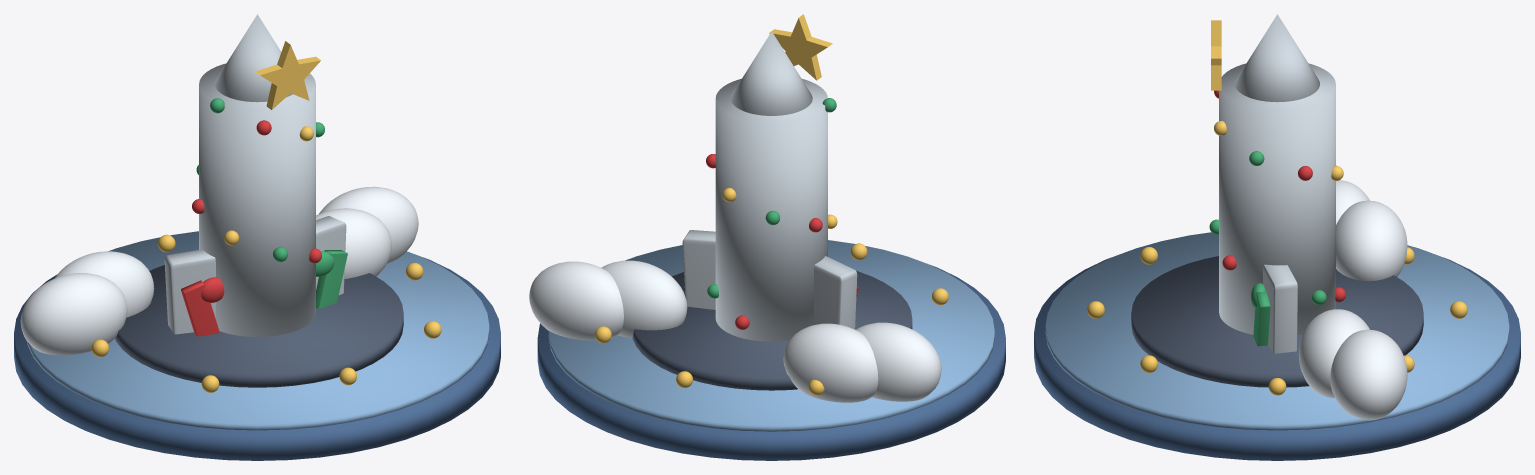
The model's file is xmasr-world.glb.
3 renders of one model, left to right at view 1: azimuth 30°, elevation 25°; view 2: azimuth 150°, elevation 25°; view 3: azimuth 270°, elevation 25°, orthographic. The views are drawn at different scales.
Parts seen in each view (by area): view 1: WorldGround, RocketBody, LaunchPad, WorldPlinth, SnowBank0, RocketNose, SnowBank3, SnowBank2, SnowBank1, Fin-1, RocketStar, RibbonTail-1 (+2 smaller); view 2: WorldGround, RocketBody, WorldPlinth, LaunchPad, SnowBank1, SnowBank3, SnowBank0, SnowBank2, RocketNose, Fin-1, Fin1, RocketStar; view 3: WorldGround, RocketBody, WorldPlinth, LaunchPad, SnowBank3, SnowBank1, RocketNose, SnowBank2, Fin1, RibbonTail1, RocketStar, SnowBank0.
Part boxes in pixels (x1,y1,x2,y2): WorldGround: (27,231,489,430); RocketBody: (199,63,315,336); LaunchPad: (115,265,403,387); WorldPlinth: (14,257,500,460); SnowBank0: (20,273,127,355); RocketNose: (215,14,292,102); SnowBank3: (319,186,418,263); SnowBank2: (316,208,391,278); SnowBank1: (54,251,154,317); Fin-1: (164,249,215,334); RocketStar: (255,41,320,109); RibbonTail-1: (181,280,219,336); WorldGround: (548,240,994,431); RocketBody: (715,78,827,341); WorldPlinth: (537,265,1005,460); LaunchPad: (632,270,912,390); SnowBank1: (783,323,878,402); SnowBank3: (529,261,623,340); SnowBank0: (856,322,941,401); SnowBank2: (601,260,687,338); RocketNose: (731,31,812,115); Fin-1: (814,256,857,329); Fin1: (682,230,715,309); RocketStar: (769,14,832,80); WorldGround: (1045,232,1509,430); RocketBody: (1219,63,1335,335); WorldPlinth: (1034,257,1520,460); LaunchPad: (1131,256,1423,387); SnowBank3: (1330,329,1407,420); SnowBank1: (1336,200,1407,281); RocketNose: (1235,14,1319,102); SnowBank2: (1298,309,1369,397); Fin1: (1263,264,1297,353); RibbonTail1: (1253,291,1270,346); RocketStar: (1211,20,1221,90); SnowBank0: (1336,180,1369,224).
Bounding box in the file's own units: 5.5 × 4.97 × 5.5.
